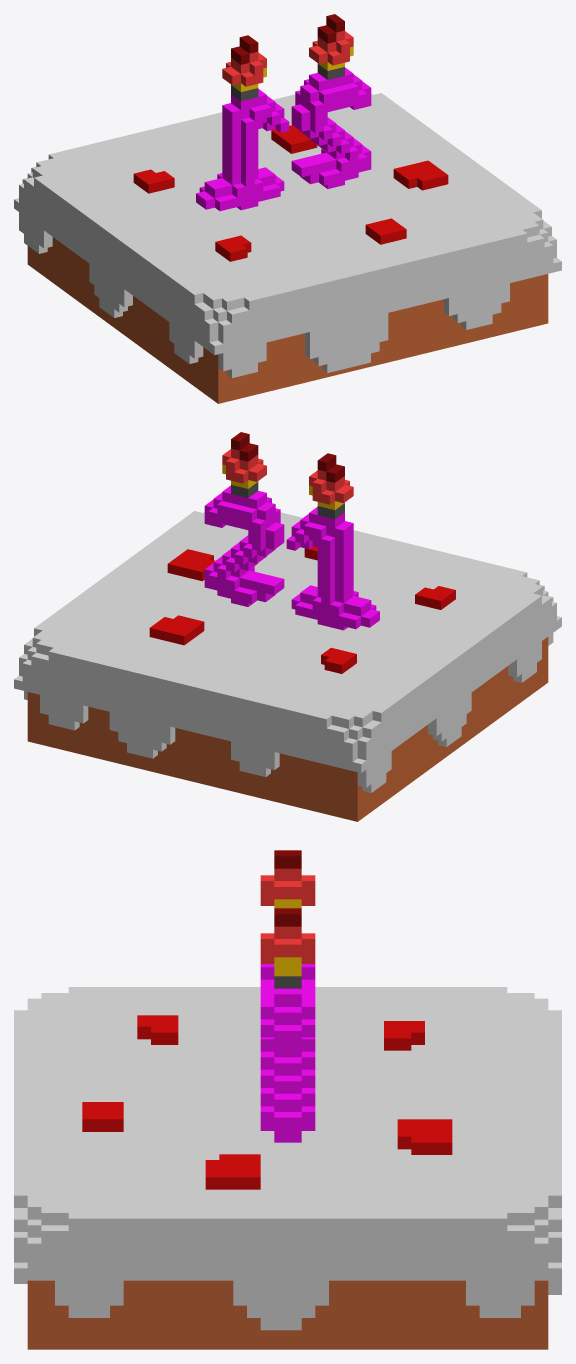
3 renders of one model, top to bottom at view 1: azimuth 30°, elevation 25°; view 2: azimuth 150°, elevation 25°; view 3: azimuth 270°, elevation 25°, orthographic. The views are drawn at different scales.
Visible parts, largest first — view 1: _0; view 2: _0; view 3: _0.
Boxes of the visible parts, left/top/right/bottom form: _0: left=14, top=14, right=561, bottom=403; _0: left=14, top=432, right=561, bottom=821; _0: left=14, top=850, right=561, bottom=1349.
Size of the model in its own units: 0.06 by 0.0435 by 0.06.
